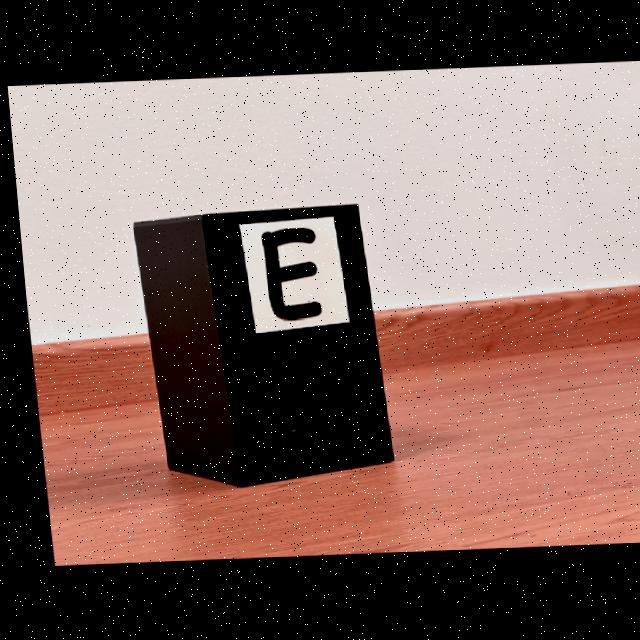E: (257, 229, 316, 321)
